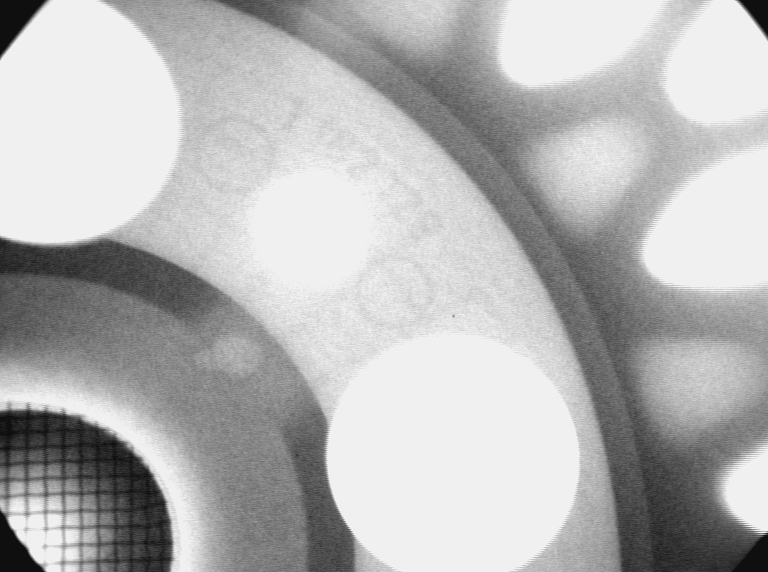defect: (192, 332, 266, 381)
